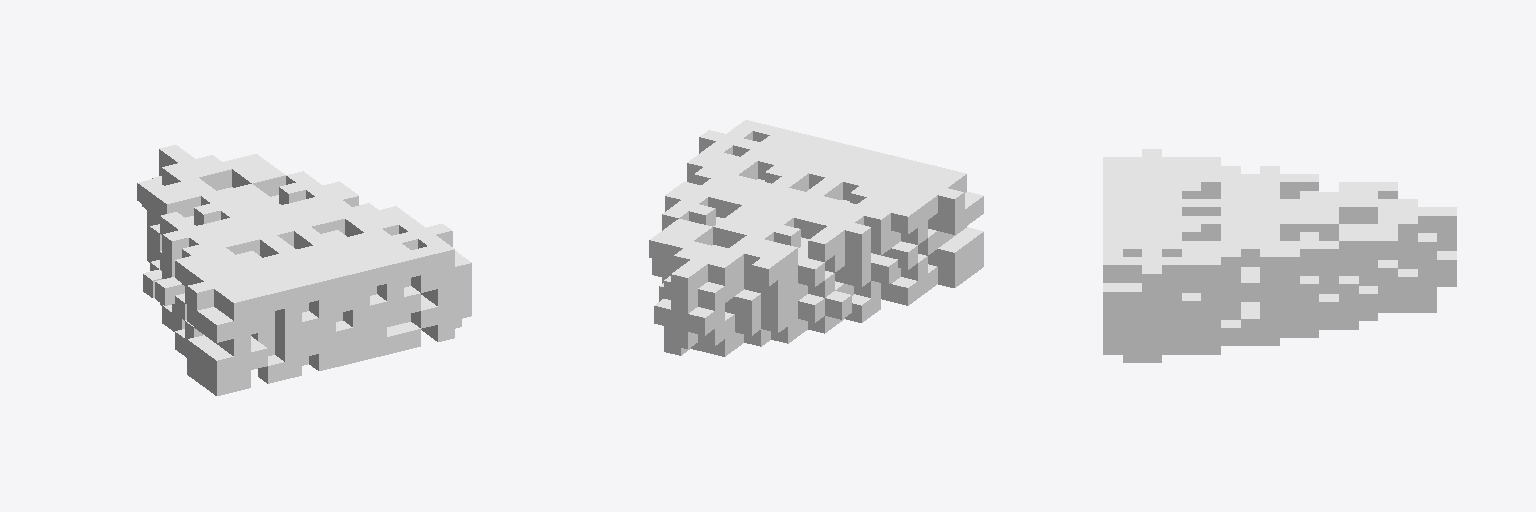
Rendered from quesoMalo.obj.
The picture shows the model from 3 angles: view 1: azimuth 30°, elevation 25°; view 2: azimuth 150°, elevation 25°; view 3: azimuth 270°, elevation 25°; orthographic projection.
Parts seen in each view (by area): view 1: object 1; view 2: object 1; view 3: object 1.
Boxes of the visible parts, box(x1,y1,x2,y2) form: object 1: box(137, 145, 471, 395); object 1: box(649, 120, 983, 356); object 1: box(1103, 149, 1456, 362).
Size of the model in its own units: 1.5 by 0.5 by 1.8.